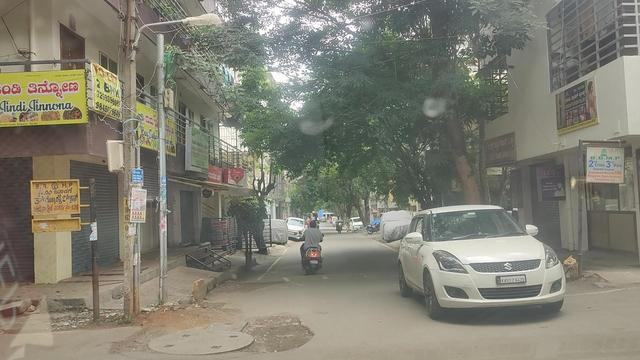LMV: (389, 211, 560, 322), (301, 219, 330, 274)
RoadDamages: (150, 308, 309, 357)
